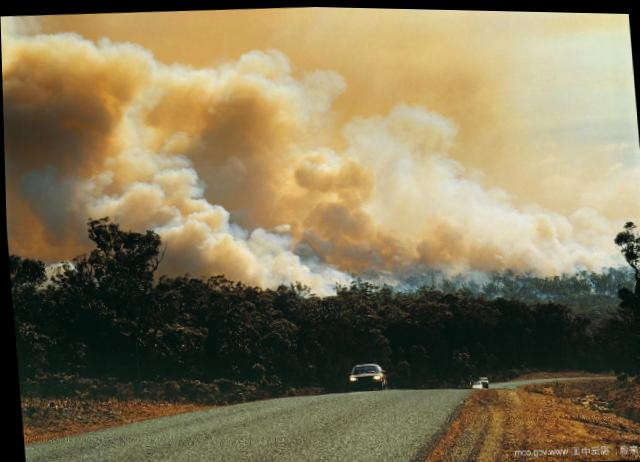smoke: (161, 8, 312, 257), (311, 138, 536, 255), (0, 11, 171, 157), (356, 11, 512, 132), (8, 159, 164, 219)
